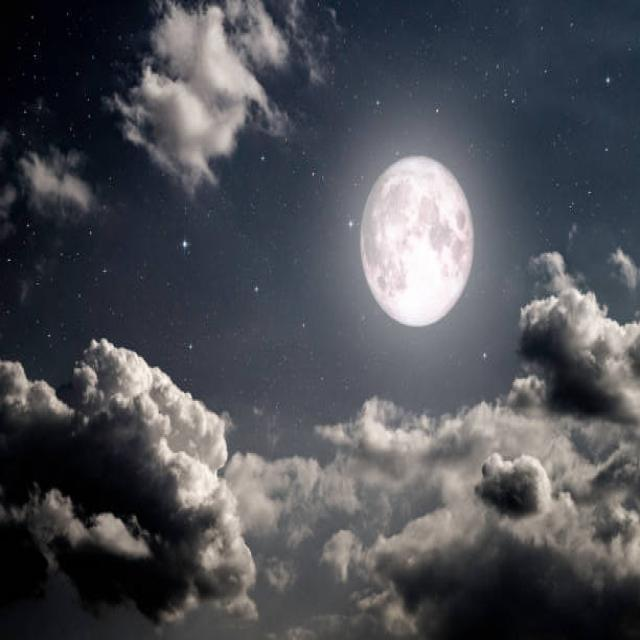moon: (353, 150, 480, 331)
